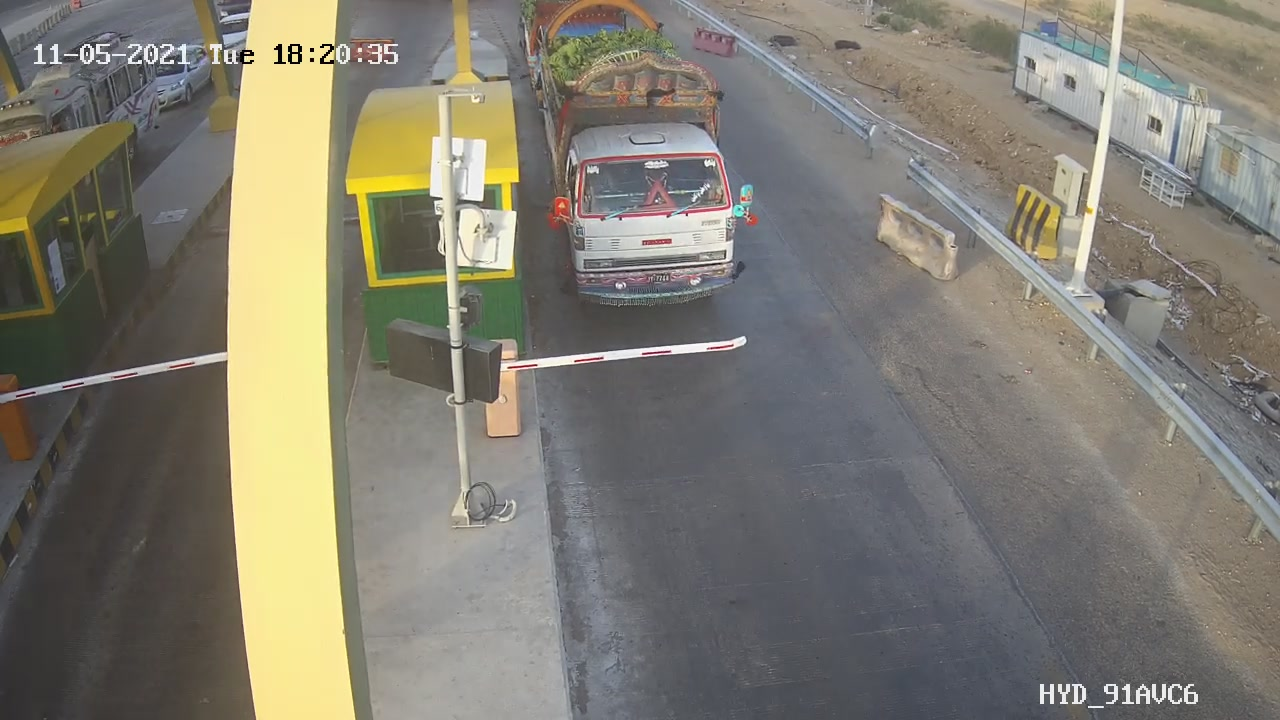F5: (519, 1, 754, 315)
